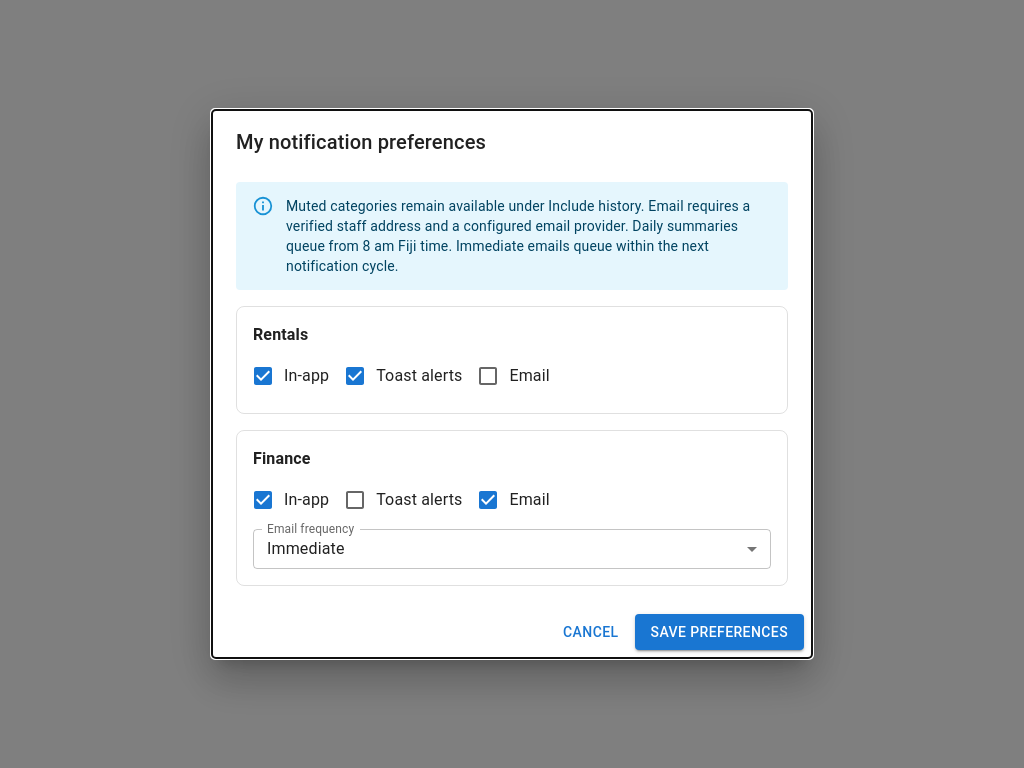
Test: retains preferences after a rejected save: {}
Check: the text "Rentals" is shown, box [253, 325, 308, 344]
Click the button "Save preferences".
click(719, 632)  # box [634, 614, 804, 650]
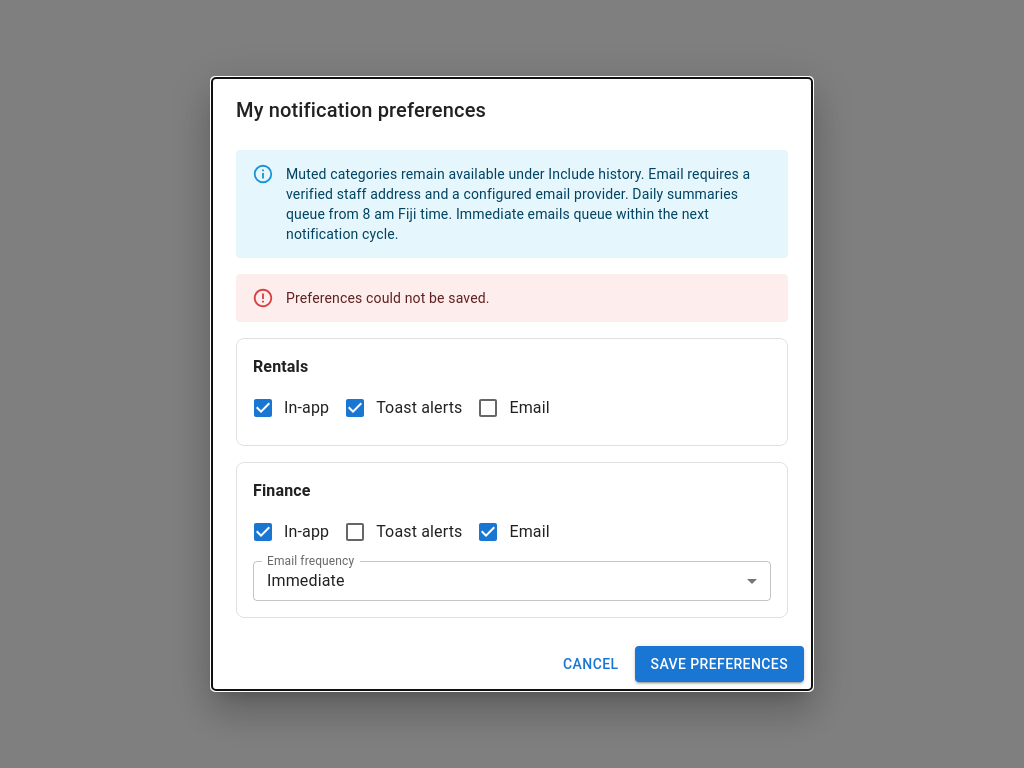
Check: the button "Save preferences" is enabled, box [634, 646, 804, 682]
Check: the text "Preferences could not be saved." is shown, box [286, 288, 490, 308]
